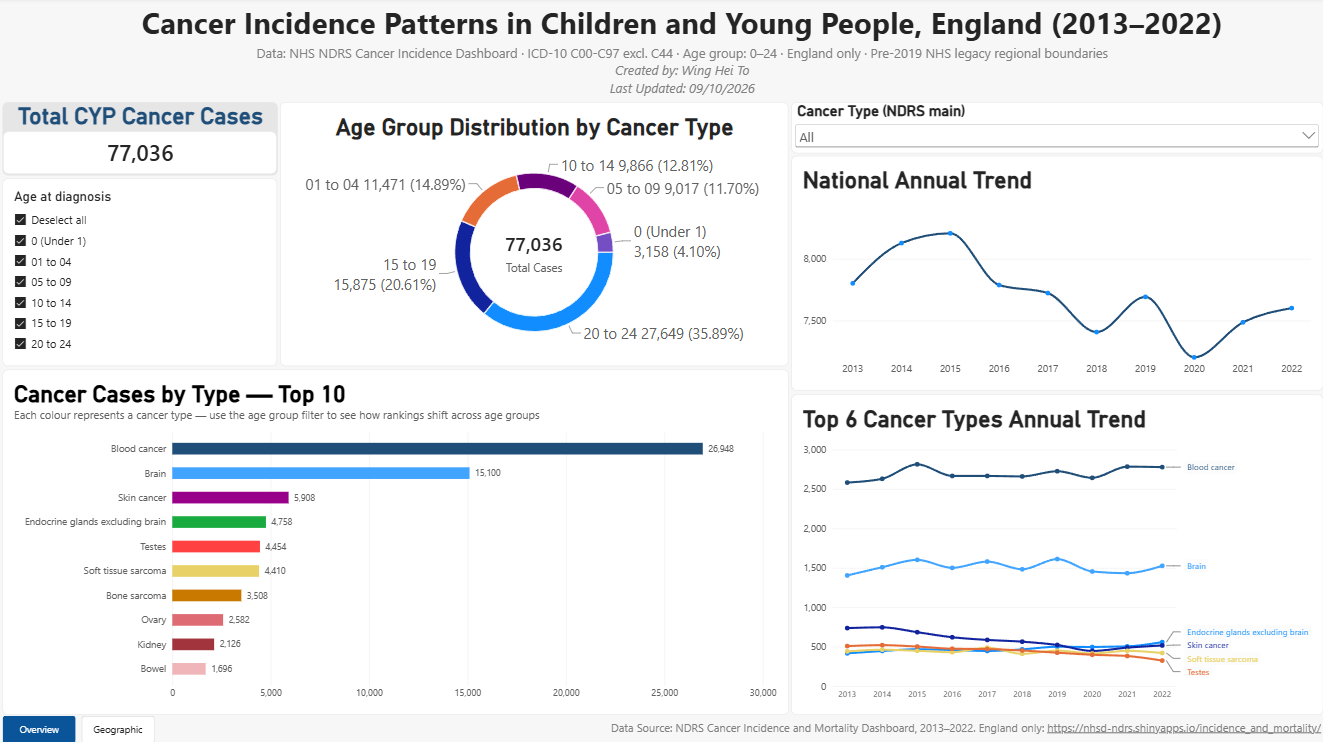

Layout of this report page (visuals, bound fields, positions):
{"tool":"powerbi","page":{"name":"Overview","canvas":[1920,1080],"ordinal":0},"visuals":[{"type":"textbox","box":[199.2,6.7,1577.6,110.8],"z":0},{"type":"textbox","box":[98,69,1780,82.5],"z":1000},{"type":"cardVisual","title":"Total CYP Cancer Cases","fields":{"Data":["national.Total Cases"]},"box":[4,152,398.1,106],"z":2000},{"type":"clusteredBarChart","title":"Cancer Cases by Type — Top 10","fields":{"Category":["national.NDRS main"],"Y":["Sum(national.Count)"]},"box":[4,540,1138,500],"z":3000},{"type":"lineChart","title":"National Annual Trend","fields":{"Category":["national.YearDate.Variation.Date Hierarchy.Year"],"Y":["Sum(national.Count)"]},"box":[1146,230,770,340],"z":4000},{"type":"listSlicer","fields":{"Values":["national.Age at diagnosis"]},"box":[4,262,397.8,272],"z":5000},{"type":"donutChart","title":"Age Group Distribution by Cancer Type","fields":{"Category":["national.Age at diagnosis"],"Y":["Sum(national.Count)"]},"box":[406,152,736,382],"z":6000},{"type":"slicer","fields":{"Values":["national.NDRS main"]},"box":[1146,152,770,74],"z":7000},{"type":"lineChart","title":"Top 6 Cancer Types Annual Trend","fields":{"Category":["national.YearDate.Variation.Date Hierarchy.Year"],"Series":["national.NDRS main"],"Y":["Sum(national.Count)"]},"box":[1146,576,770,464],"z":8000},{"type":"pageNavigator","box":[4,1040,220,40],"z":9000},{"type":"textbox","box":[754,1046,1158,30],"z":10000}]}

Visuals, with their boxes in screenshot pixels (x1, y1, x2, y2), scaled from the page's 1920x1080 canvas onto the 1323x742 screenshot:
textbox: (137, 5, 1224, 81)
textbox: (68, 47, 1294, 104)
"Total CYP Cancer Cases" cardVisual: (3, 104, 277, 177)
"Cancer Cases by Type — Top 10" clusteredBarChart: (3, 371, 787, 715)
"National Annual Trend" lineChart: (790, 158, 1320, 392)
listSlicer - national.Age at diagnosis: (3, 180, 277, 367)
"Age Group Distribution by Cancer Type" donutChart: (280, 104, 787, 367)
slicer - national.NDRS main: (790, 104, 1320, 155)
"Top 6 Cancer Types Annual Trend" lineChart: (790, 396, 1320, 715)
pageNavigator: (3, 715, 154, 741)
textbox: (520, 719, 1317, 739)
